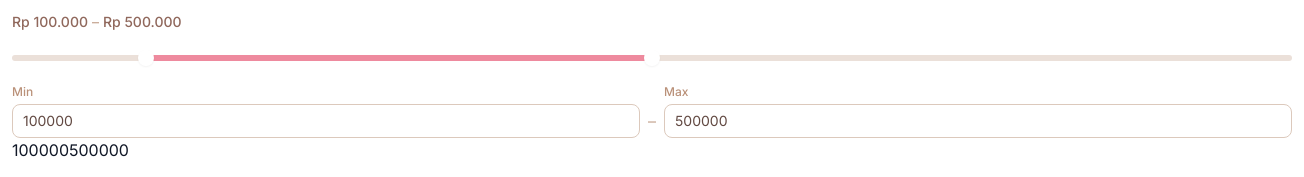
it: PriceRangeSlider – integration (controlled) › updates displayed range when min slider changes
Set the slider with test id "price-range-min-slider" to "200000". click: x=273, y=58
box: [12, 48, 1292, 68]
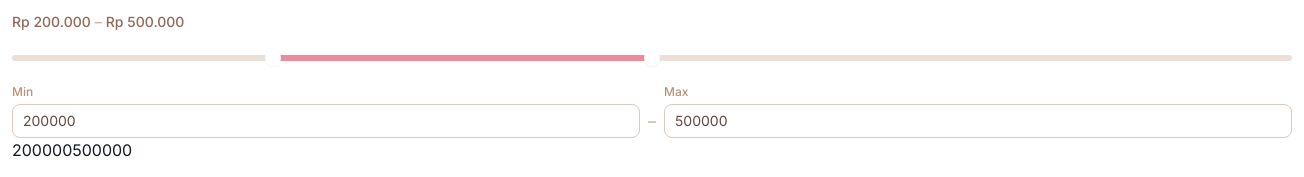
Expected: the text with test id "output-min" reads "200000", [12, 140, 72, 160]
